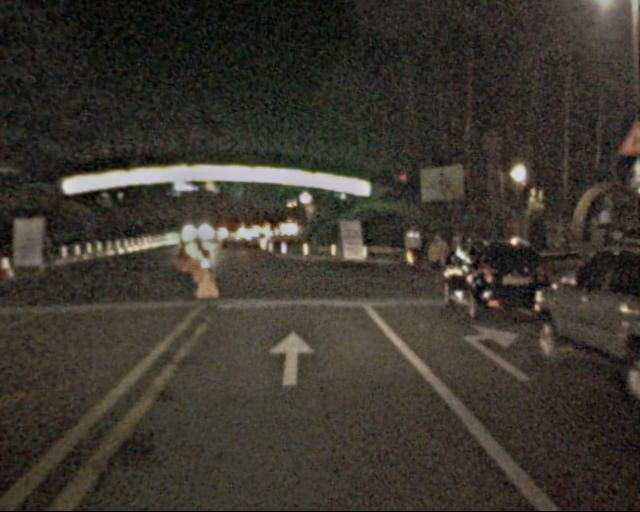person: (425, 230, 452, 296), (403, 221, 424, 273)
